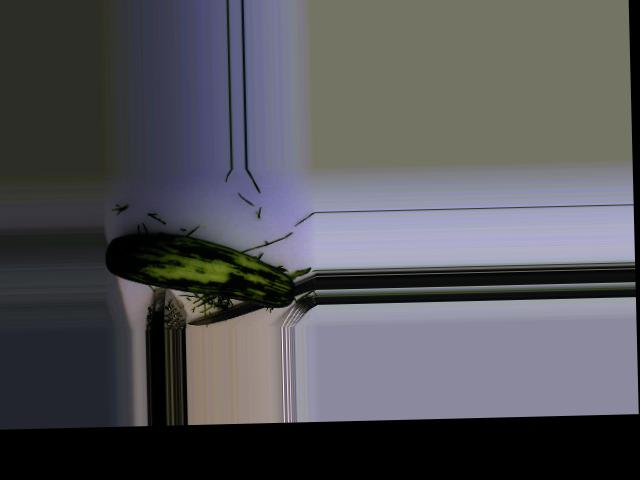cucumber: (105, 229, 296, 312)
